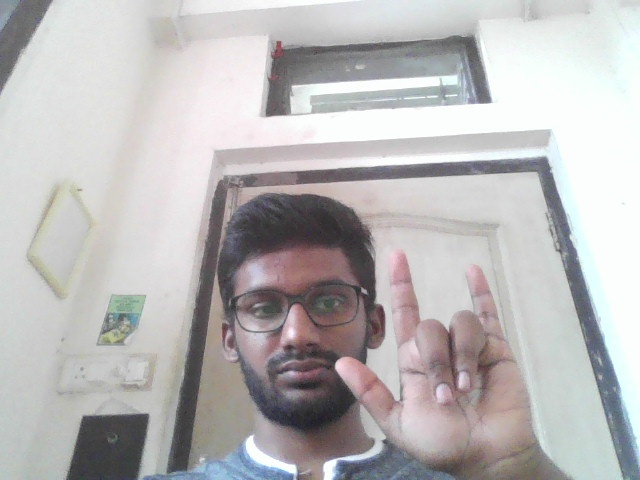I Love You: (330, 244, 552, 471)
